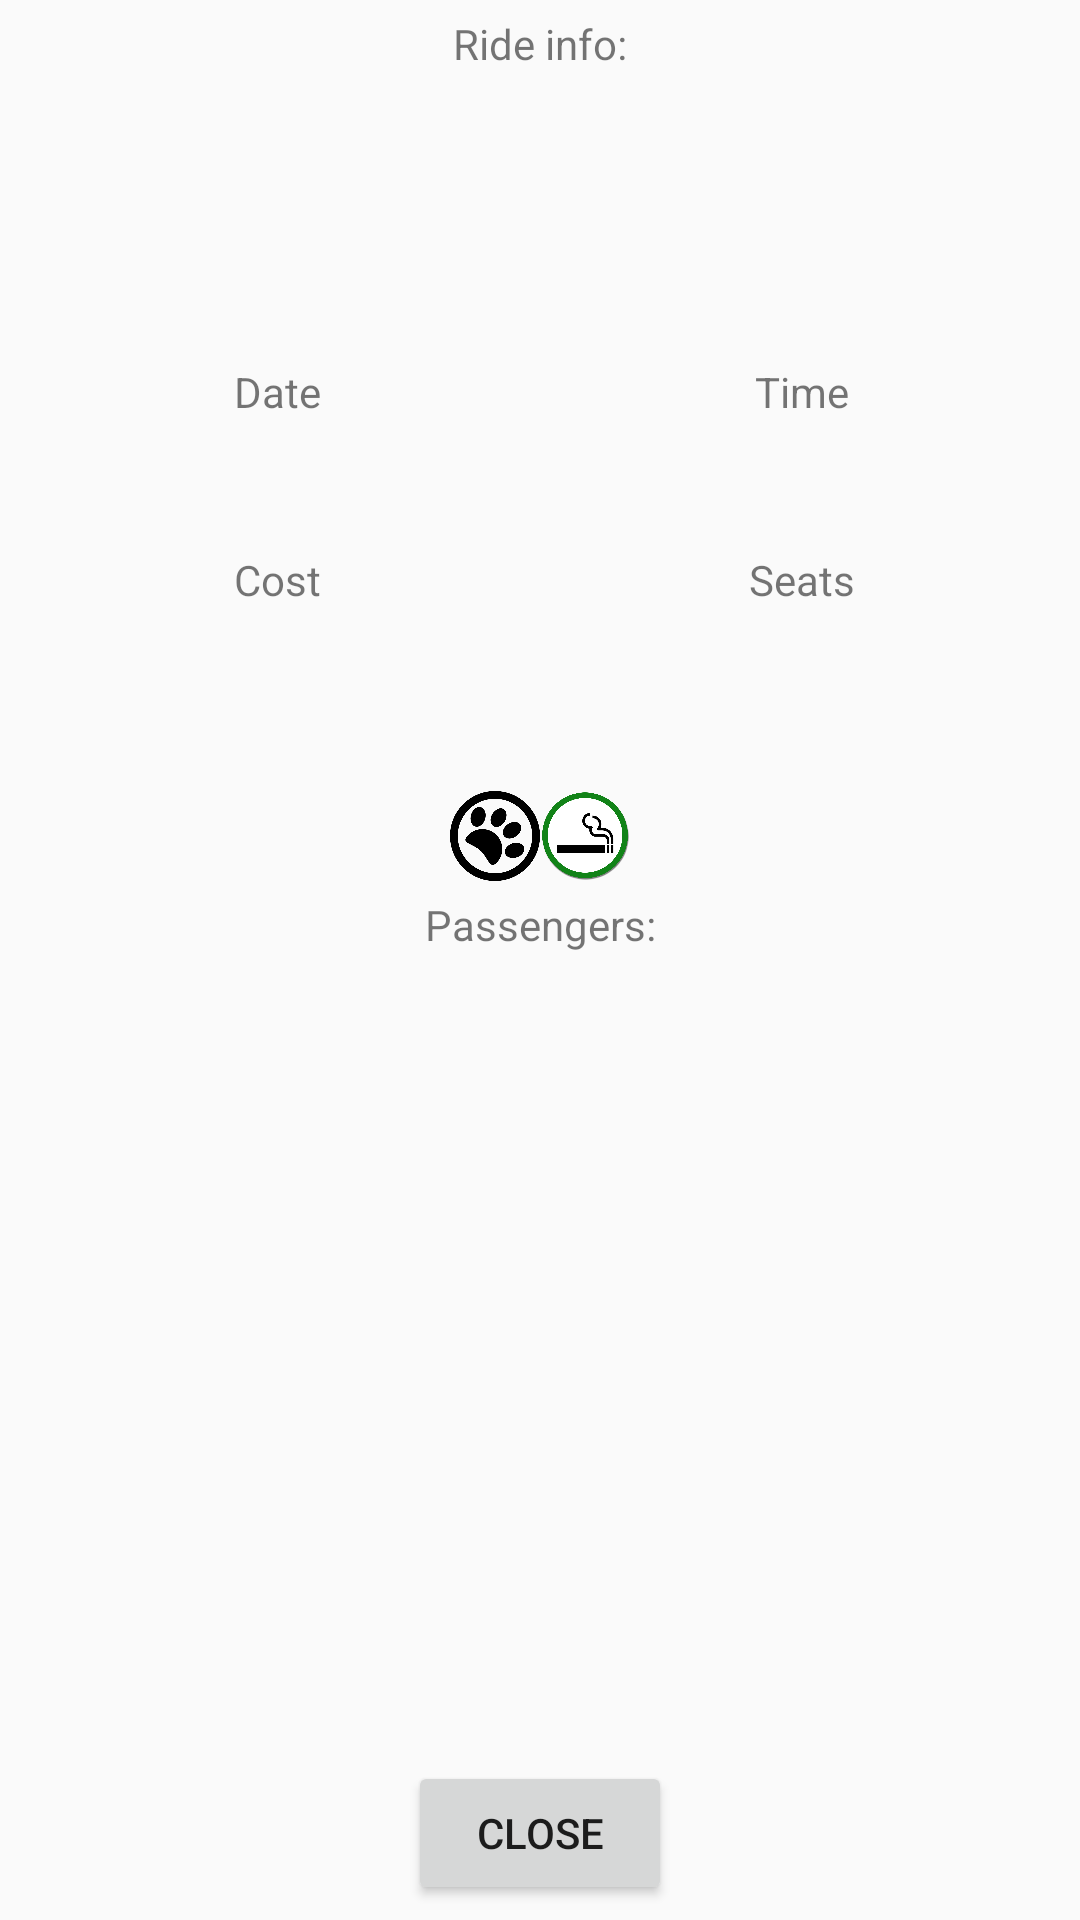

Where icons sit on this 1080x1920 app screen, as (x1=x1, y1=y1, x2=x2, y2=y2):
pets: (x1=450, y1=791, x2=540, y2=881)
smoke: (x1=542, y1=792, x2=629, y2=880)
